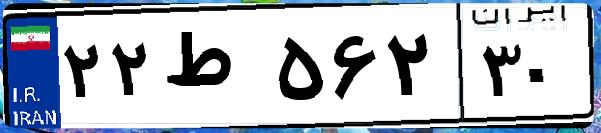0: (525, 38, 570, 115)
2: (385, 28, 445, 110), (57, 26, 110, 100), (110, 28, 158, 98)
3: (475, 38, 525, 113)
5: (270, 28, 330, 110)
6: (330, 28, 385, 110)
ط: (158, 20, 270, 120)
